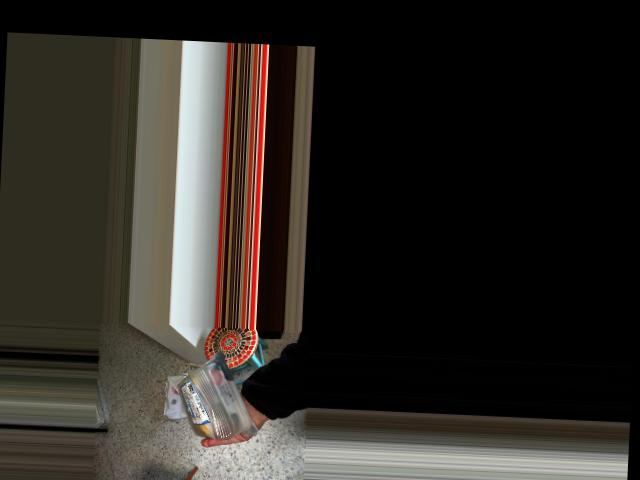cheese: (154, 379, 247, 422)
